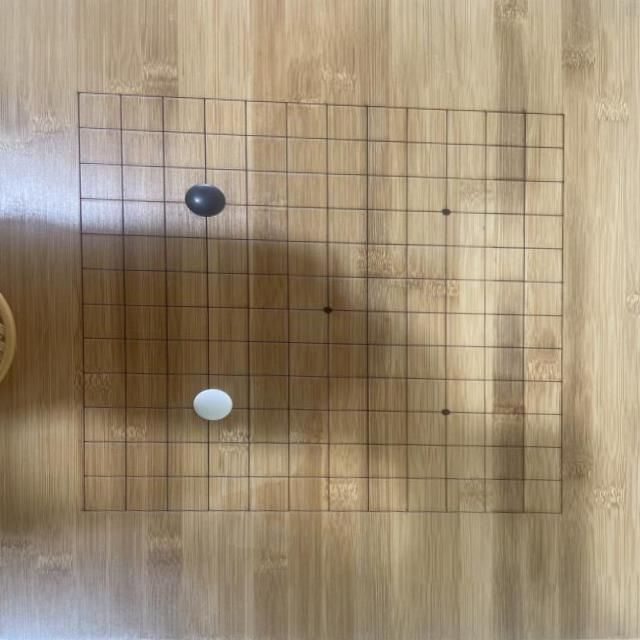blackstone: (185, 183, 226, 217)
whitestone: (192, 388, 233, 422)
